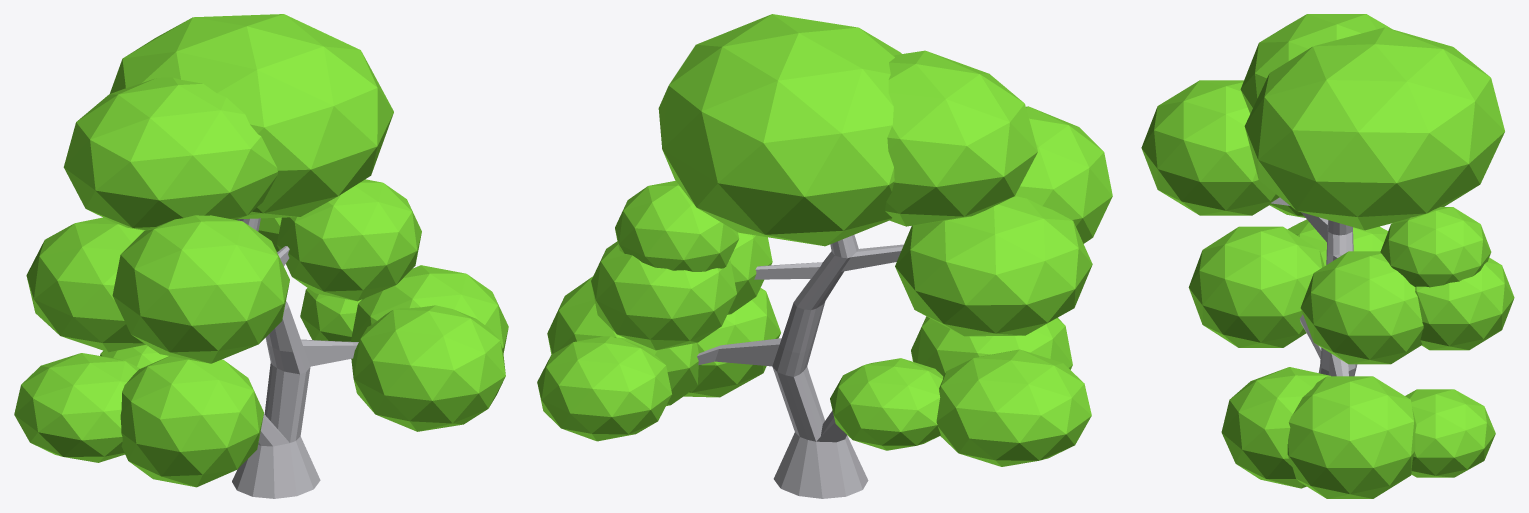
File: BirchTree.glb
3 views of the same model, side by side, from view 1: azimuth 30°, elevation 25°; view 2: azimuth 150°, elevation 25°; view 3: azimuth 270°, elevation 25° (orthographic). The views are drawn at different scales.
Parts seen in each view (by area): view 1: GreyTree; view 2: GreyTree; view 3: GreyTree.
Part boxes in pixels (x1,y1,x2,y2): GreyTree: [14, 14, 508, 498]; GreyTree: [537, 14, 1112, 498]; GreyTree: [1141, 14, 1514, 498].
Size of the model in its own units: 12.45 by 10.89 by 9.03.
